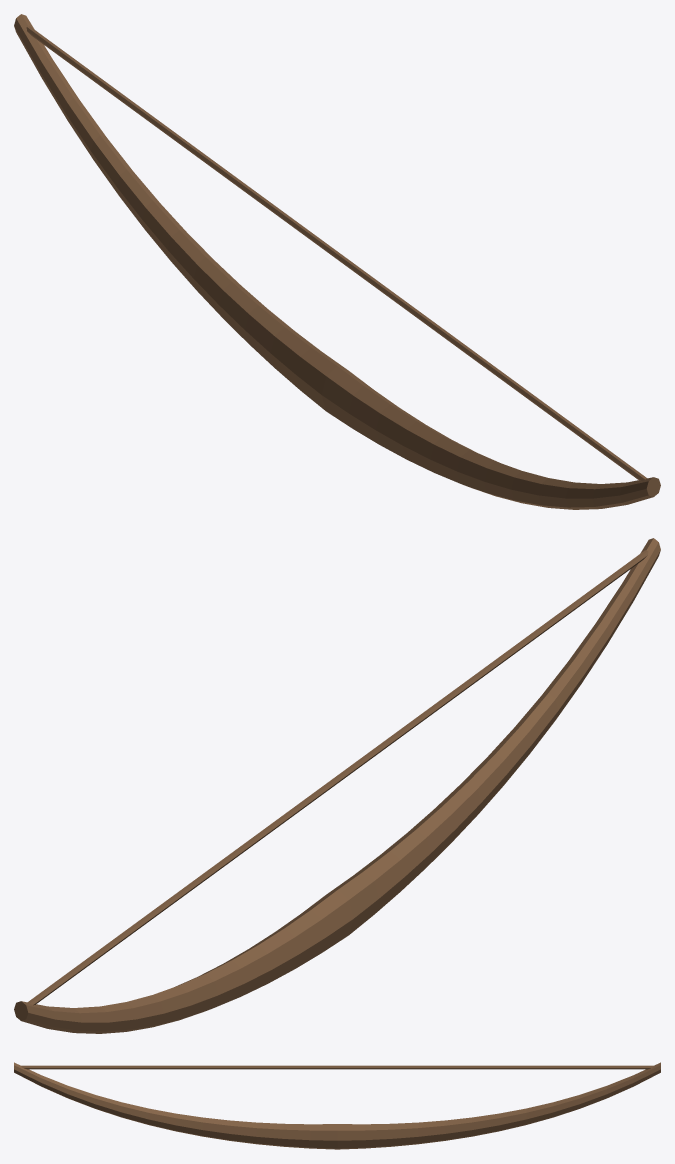
The model's file is Bow_3D.fbx.
3 views of the same model, one above another, from view 1: azimuth 30°, elevation 25°; view 2: azimuth 150°, elevation 25°; view 3: azimuth 270°, elevation 25° (orthographic). The views are drawn at different scales.
Parts seen in each view (by area): view 1: Bow_3D; view 2: Bow_3D; view 3: Bow_3D.
Part boxes in pixels (bbox=[...]): Bow_3D: bbox=[14, 14, 660, 509]; Bow_3D: bbox=[14, 538, 660, 1033]; Bow_3D: bbox=[14, 1062, 660, 1149].
Size of the model in its own units: 3.2 by 16.36 by 110.
